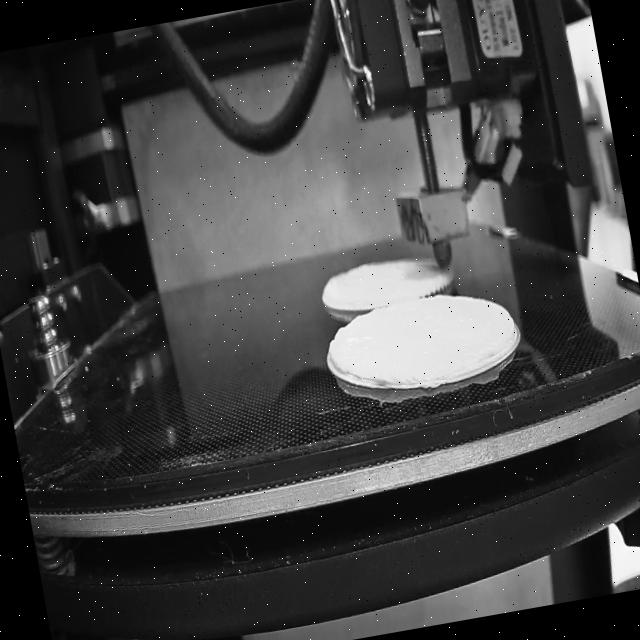over_extrusion: (324, 341, 350, 384)
